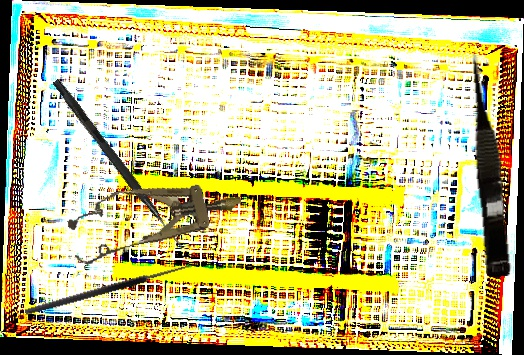Hook Surgical: (50, 78, 188, 251), (22, 251, 197, 318)
Micro Scissor: (463, 50, 517, 278)
Speculum: (63, 167, 248, 269)
